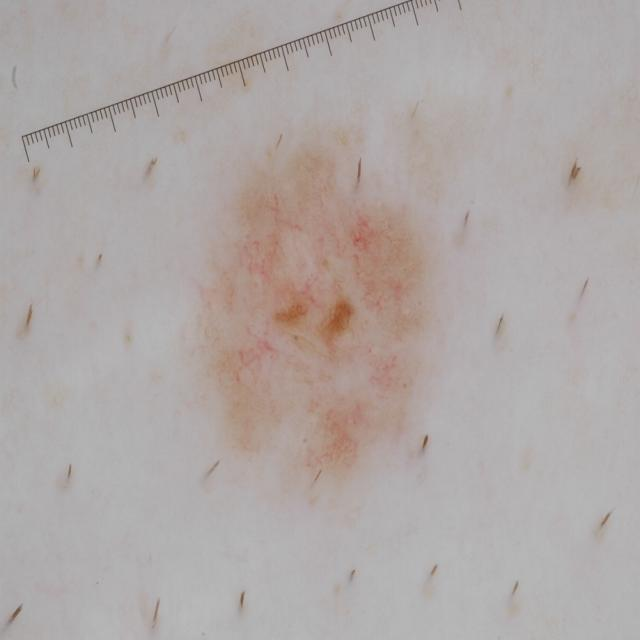Skin-Cancer Nevus: (159, 120, 545, 541)
